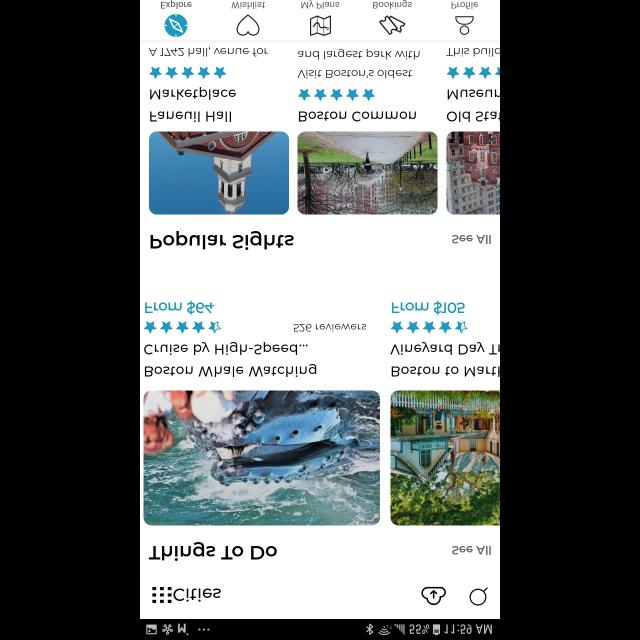icon: (150, 66, 227, 80), (390, 321, 468, 333), (144, 321, 222, 333), (298, 88, 374, 100), (446, 66, 499, 80), (165, 14, 188, 38), (379, 15, 405, 35), (237, 14, 260, 36), (422, 586, 446, 606), (310, 16, 332, 36), (454, 16, 474, 36), (468, 586, 488, 606), (152, 587, 172, 603)
image: (144, 390, 380, 526), (390, 390, 500, 526), (298, 132, 438, 215), (150, 132, 290, 215), (446, 132, 499, 215)
text: (145, 342, 317, 376), (390, 342, 500, 376), (298, 49, 420, 79), (150, 86, 236, 122), (152, 230, 294, 250), (150, 542, 278, 560), (446, 90, 499, 122), (150, 47, 268, 57), (299, 111, 416, 121), (392, 300, 464, 316), (146, 300, 214, 316), (174, 587, 222, 601), (294, 324, 366, 332), (446, 48, 500, 56), (452, 235, 492, 245), (452, 545, 492, 555), (372, 0, 412, 10), (302, 0, 340, 10), (160, 0, 192, 10), (231, 2, 265, 8), (450, 2, 478, 8)
uppertaskbar: (140, 618, 500, 640)
